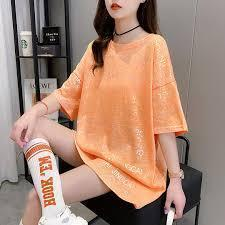Tshirt: (52, 29, 190, 208)
